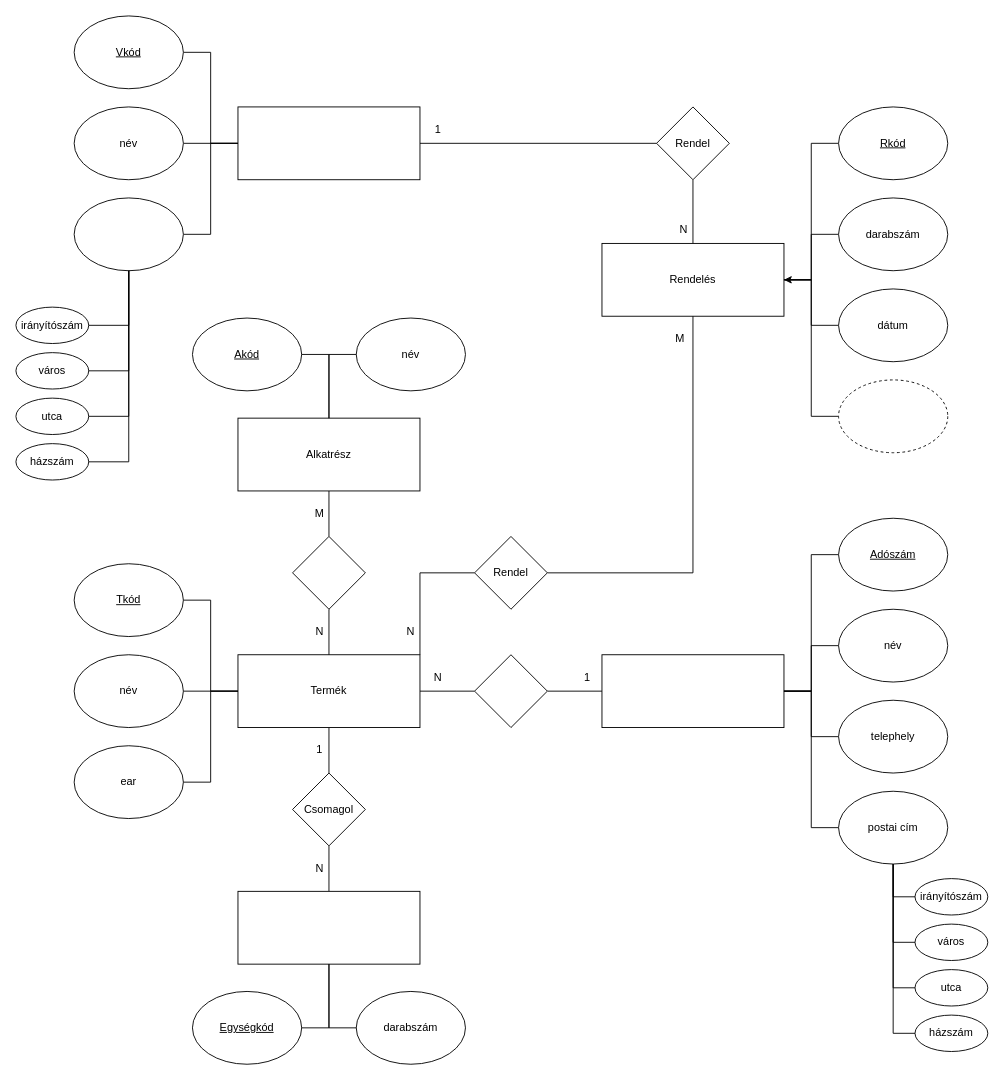
Some shapes in this 1004 by 1080 pixel diagram are drawn without their labels. The centre of each missing label's shape, as x and y in pixels:
"Csomagolási egység" goes at (x=328, y=927).
"Gyártja" goes at (x=510, y=691).
"Gyártó" goes at (x=692, y=691).
"lakcím" goes at (x=128, y=234).
"Tartalmaz" goes at (x=328, y=572).
"Vevő" goes at (x=328, y=143).
"ár= darabszám*ear" goes at (x=893, y=416).
